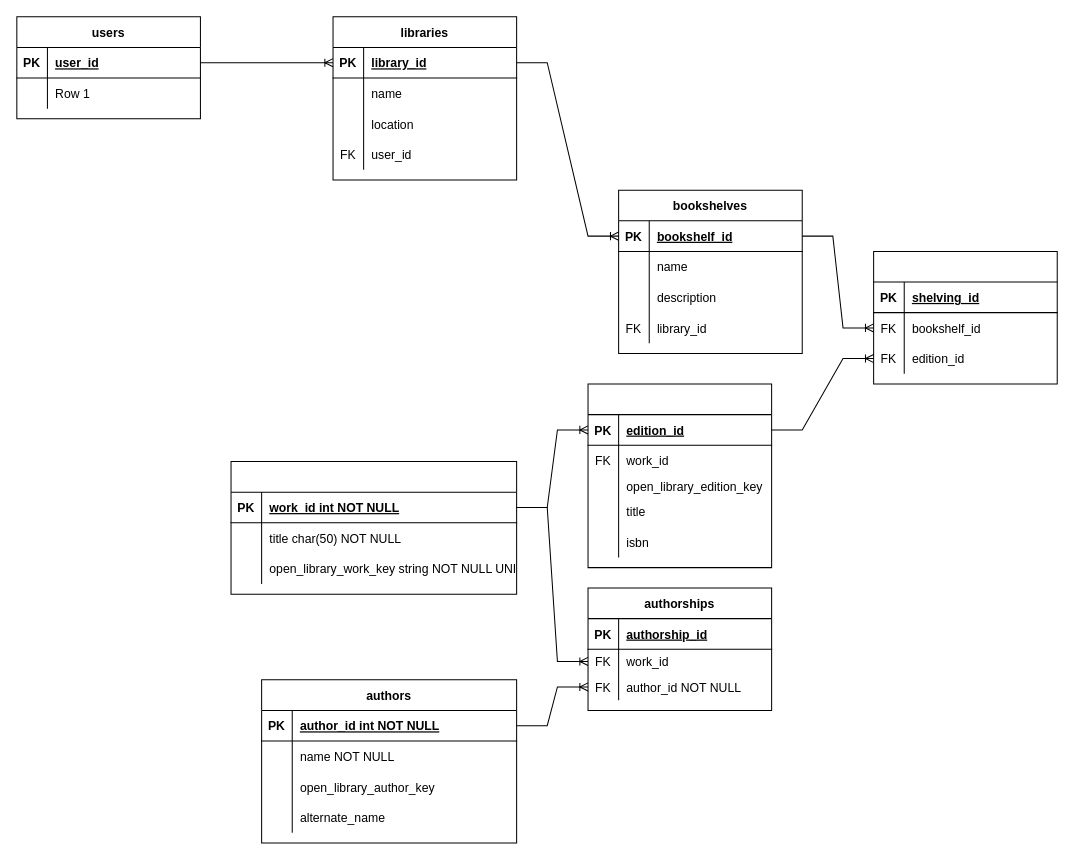
This 1074x860 diagram has some shape labels left out. The shapes that lost their labels are listed below. From the top down, each one's box as (x1, y1, x2, y2) in pixels, then its label:
(873, 250, 1057, 384): shelvings
(587, 383, 772, 568): editions
(230, 461, 517, 594): works
